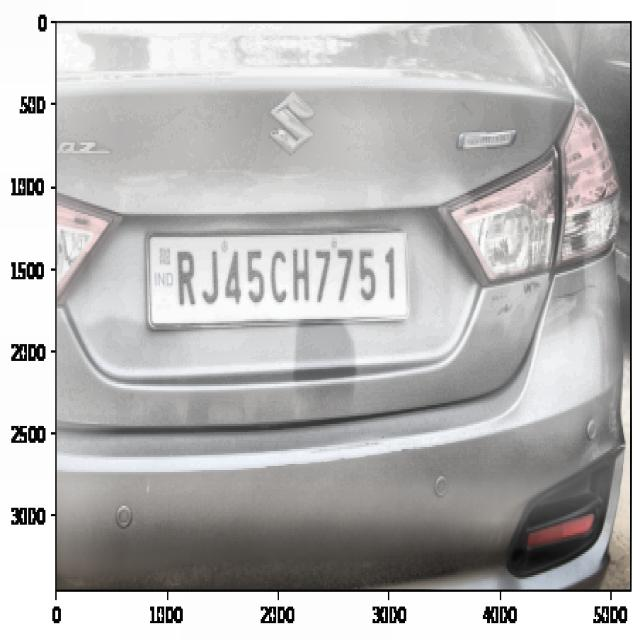license_plate: (171, 237, 402, 322)
